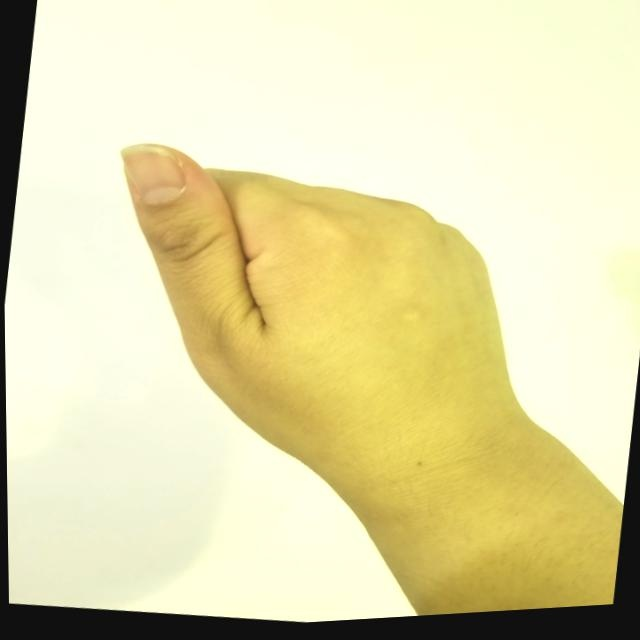A: (68, 112, 581, 547)
